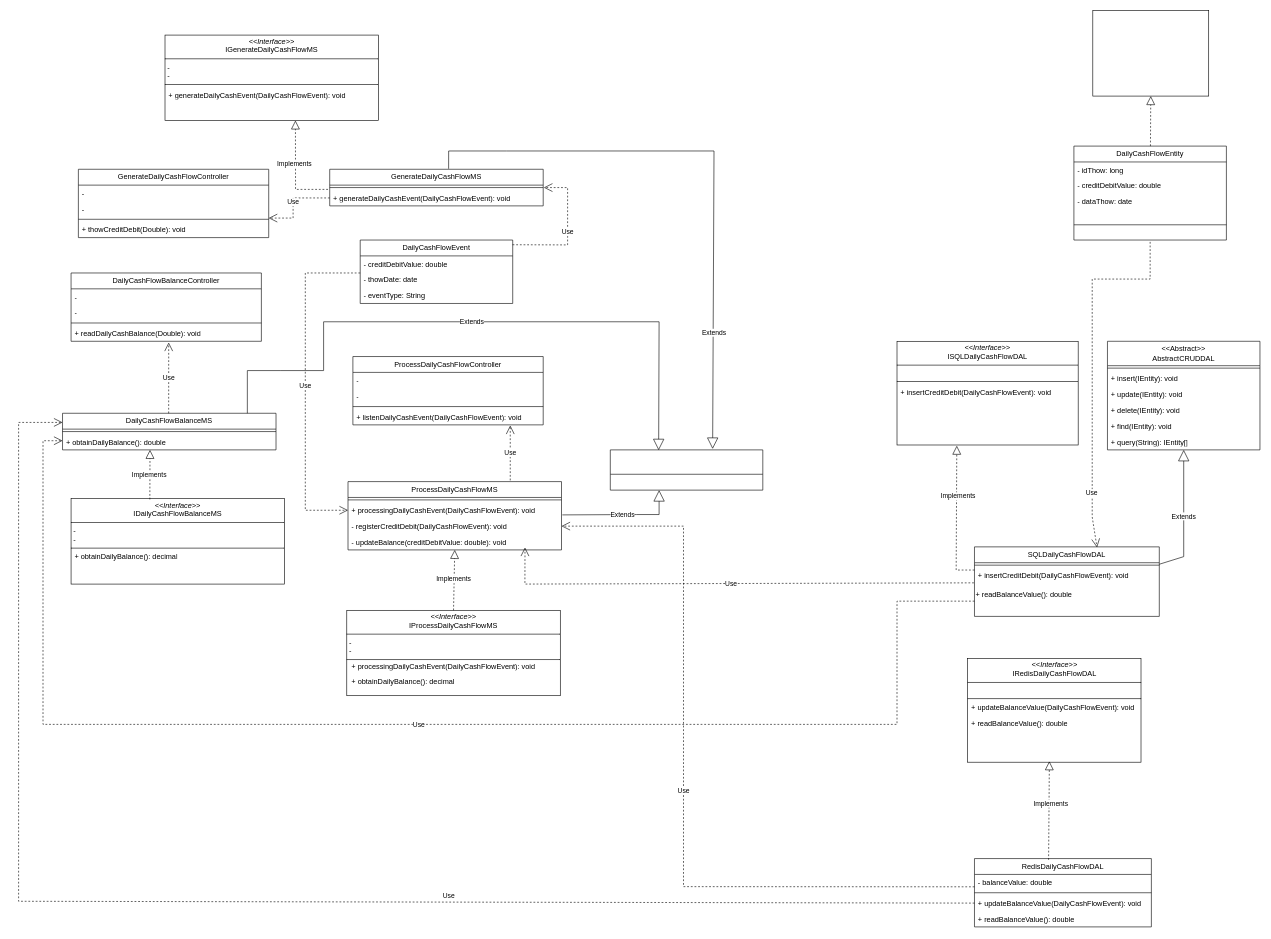
Image size: 1271x939. Some labels were removed from this diagram. The centre of each missing label's shape, as x and y in pixels:
"<<Abstract>> AbstractMicroService" belongs at (x=686, y=469).
"<<Interface>> IEntity" belongs at (x=1150, y=53).
